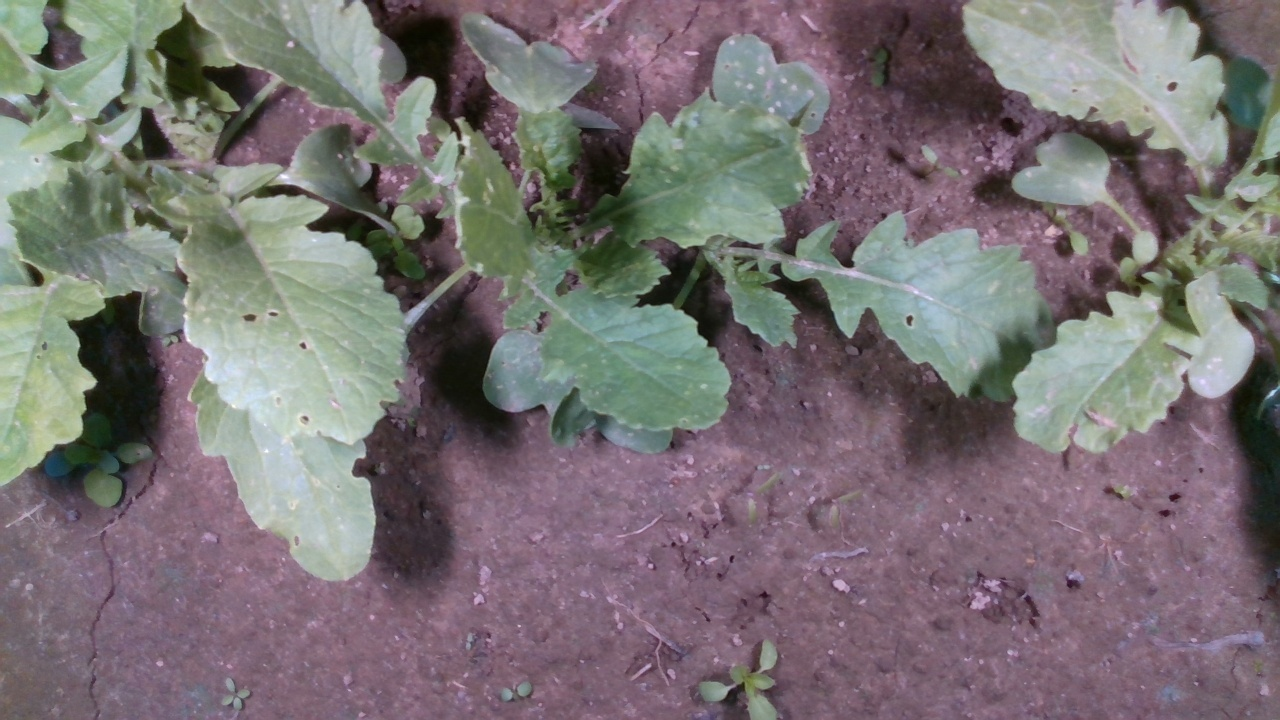weed: (919, 143, 965, 185), (219, 675, 253, 710), (494, 680, 534, 702)
